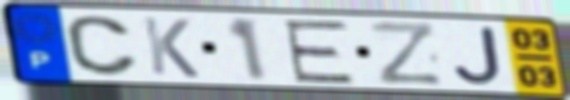1: (226, 15, 270, 84)
C: (63, 13, 143, 78)
E: (280, 18, 358, 85)
J: (450, 24, 506, 87)
K: (139, 15, 202, 80)
Z: (366, 19, 447, 87)
